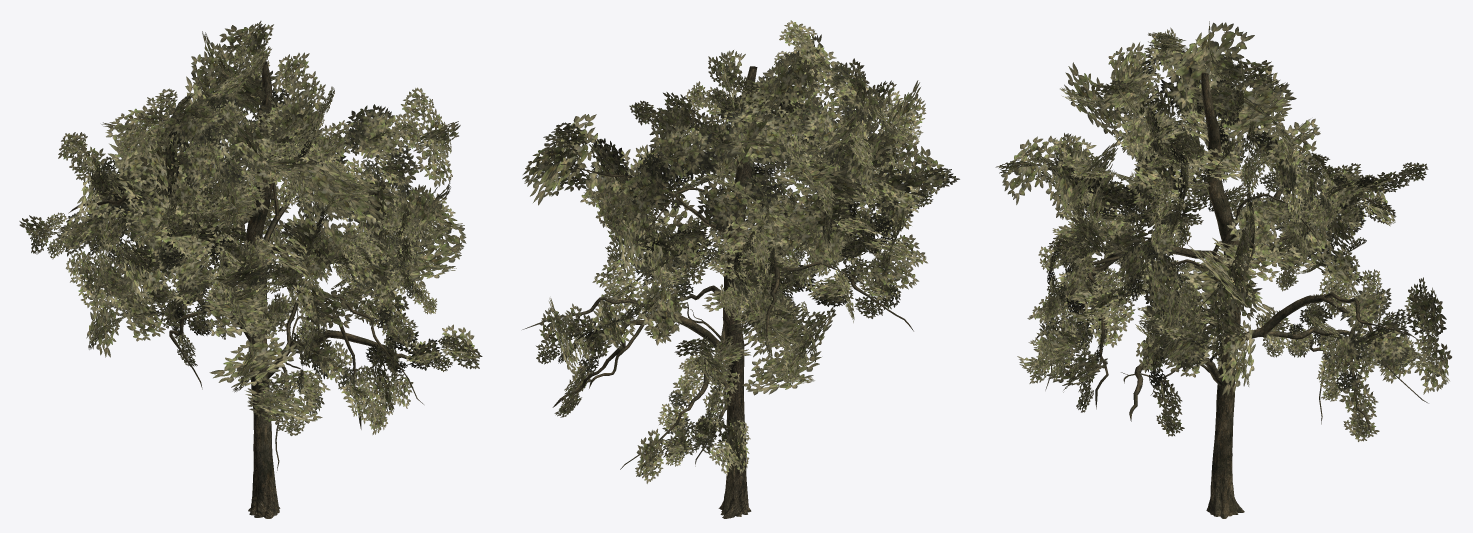
File: tree.fbx
3 views of the same model, side by side, from view 1: azimuth 30°, elevation 25°; view 2: azimuth 150°, elevation 25°; view 3: azimuth 270°, elevation 25° (orthographic). The views are drawn at different scales.
Visible parts, largest first — view 1: SM_TallTree01_Leaves.mo, SM_TallTree01.mo; view 2: SM_TallTree01_Leaves.mo, SM_TallTree01.mo; view 3: SM_TallTree01_Leaves.mo, SM_TallTree01.mo.
Part boxes in pixels (x1,y1,x2,y2): SM_TallTree01_Leaves.mo: [19, 21, 482, 435]; SM_TallTree01.mo: [68, 61, 430, 518]; SM_TallTree01_Leaves.mo: [522, 20, 959, 483]; SM_TallTree01.mo: [522, 66, 913, 518]; SM_TallTree01_Leaves.mo: [995, 21, 1451, 441]; SM_TallTree01.mo: [1035, 72, 1428, 518].
Bounding box in the file's own units: 2551 × 3192 × 2852.
